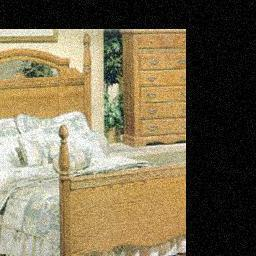Armario: (123, 29, 185, 146)
